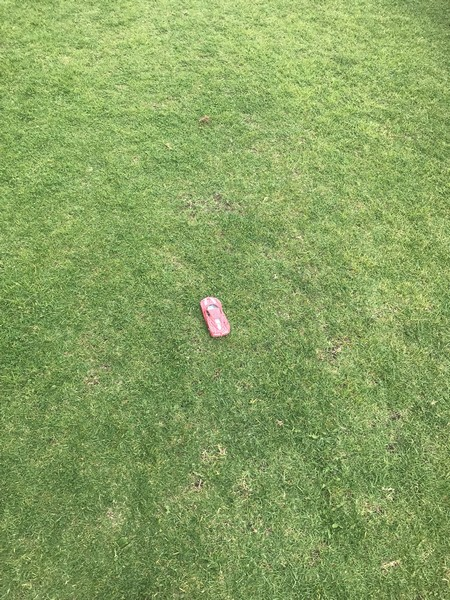RC: (199, 294, 232, 339)
